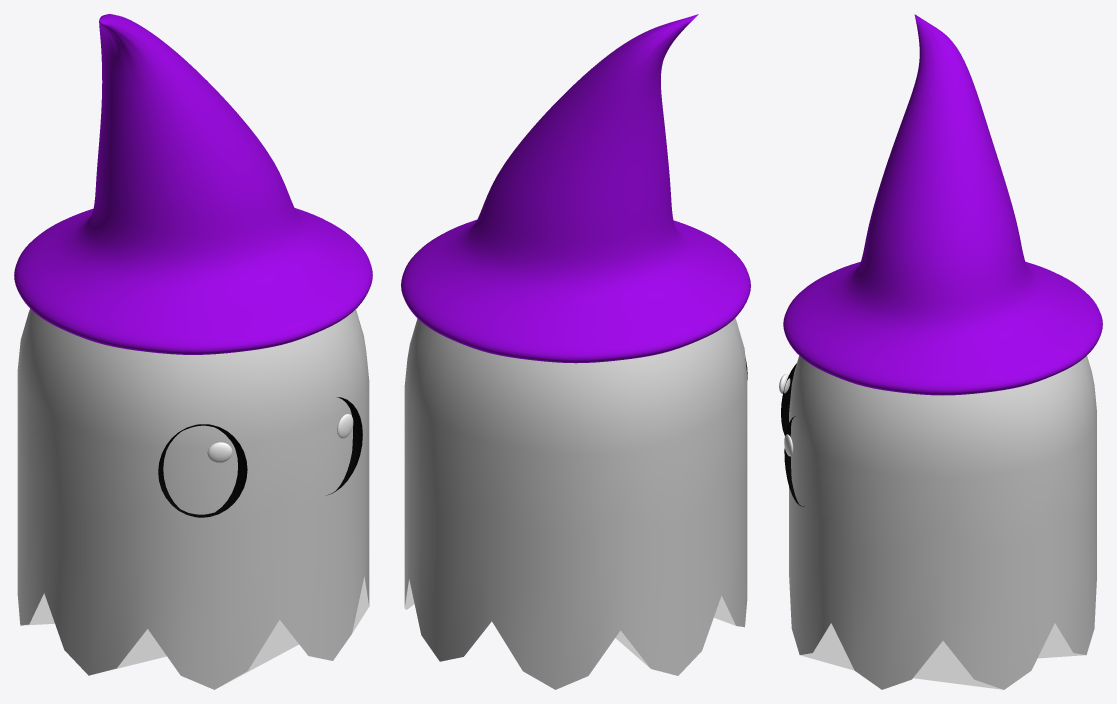
File: ghostwithHAT.fbx
3 renders of one model, left to right at view 1: azimuth 30°, elevation 25°; view 2: azimuth 150°, elevation 25°; view 3: azimuth 270°, elevation 25°, orthographic. The views are drawn at different scales.
Parts seen in each view (by area): view 1: Cube, Cylinder, Sphere, Sphere.001; view 2: Cube, Cylinder; view 3: Cube, Cylinder.
Boxes of the visible parts, x1=… form: Cube: x1=17, y1=308, x2=369, y2=689; Cylinder: x1=14, y1=14, x2=372, y2=354; Sphere: x1=158, y1=424, x2=247, y2=517; Sphere.001: x1=327, y1=397, x2=362, y2=495; Cube: x1=404, y1=318, x2=747, y2=689; Cylinder: x1=401, y1=14, x2=750, y2=363; Cube: x1=789, y1=355, x2=1096, y2=689; Cylinder: x1=783, y1=14, x2=1102, y2=395.
Size of the model in its own units: 175 by 341 by 176.
